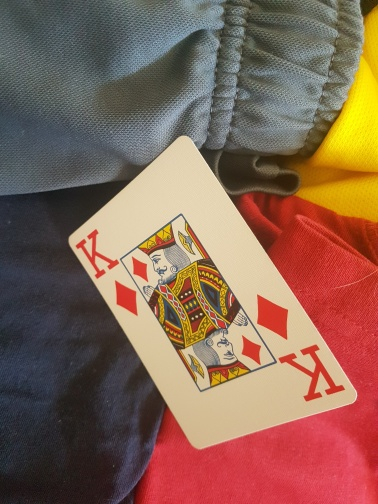king: (67, 136, 357, 452)
